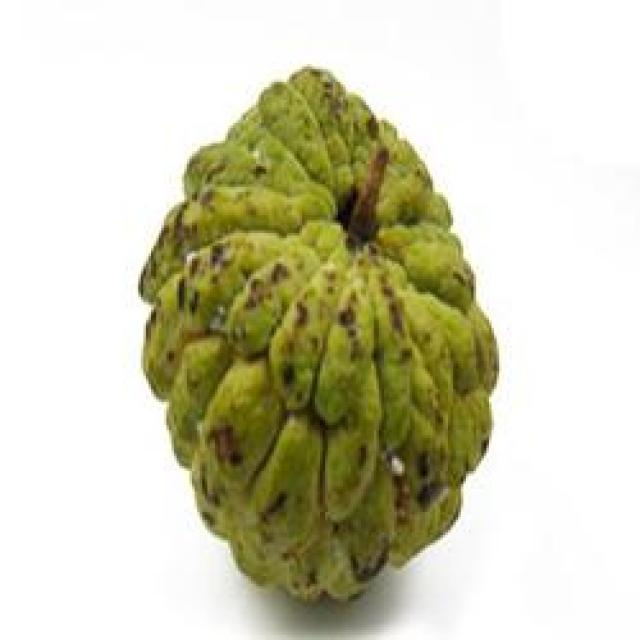apple: (115, 54, 507, 609)
